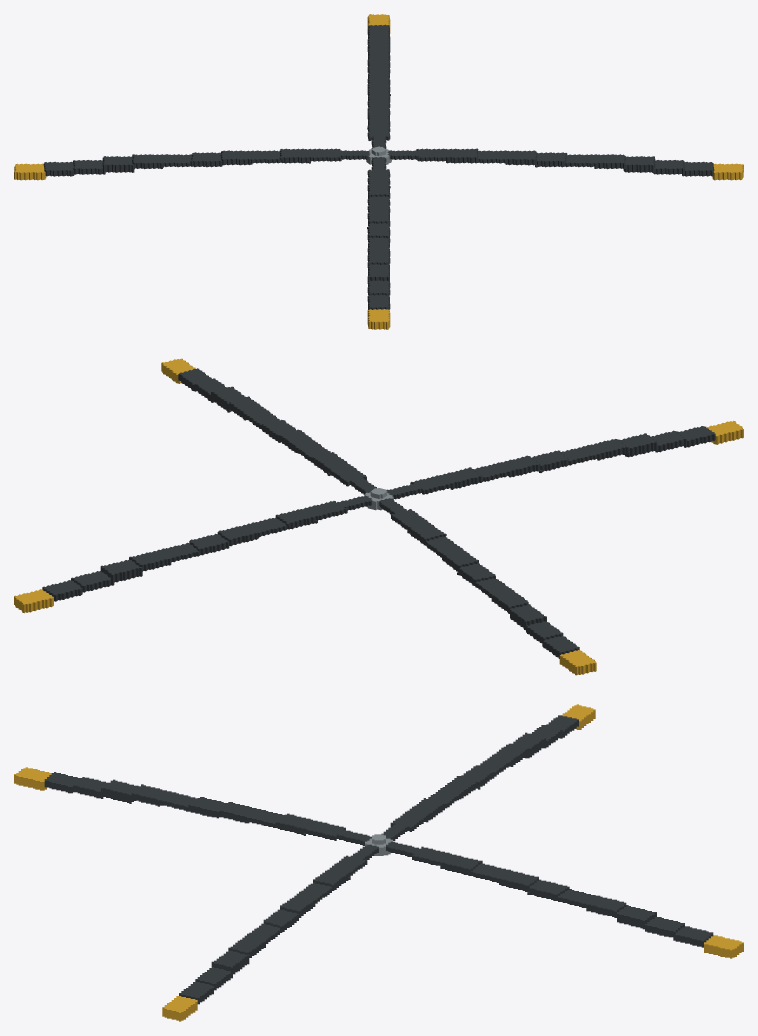
The model's file is air_ambulance_main_rotor.glb.
3 renders of one model, top to bottom at view 1: azimuth 30°, elevation 25°; view 2: azimuth 150°, elevation 25°; view 3: azimuth 270°, elevation 25°, orthographic. The views are drawn at different scales.
Parts seen in each view (by area): view 1: body:compound; view 2: body:compound; view 3: body:compound.
Part boxes in pixels (x1=…): body:compound: x1=14, y1=14, x2=743, y2=329; body:compound: x1=14, y1=358, x2=743, y2=675; body:compound: x1=14, y1=704, x2=743, y2=1021.
Bounding box in the file's own units: 9.69 × 0.4375 × 9.69.
